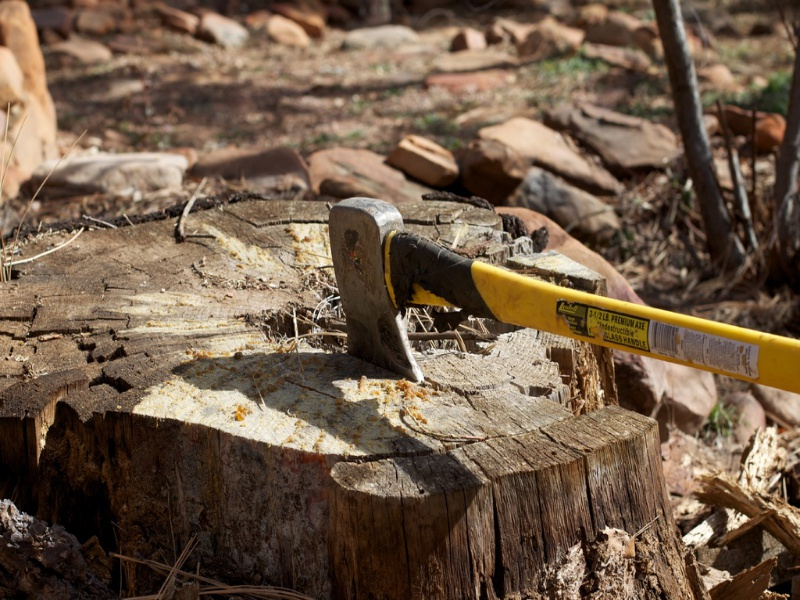axe: (316, 186, 800, 411)
